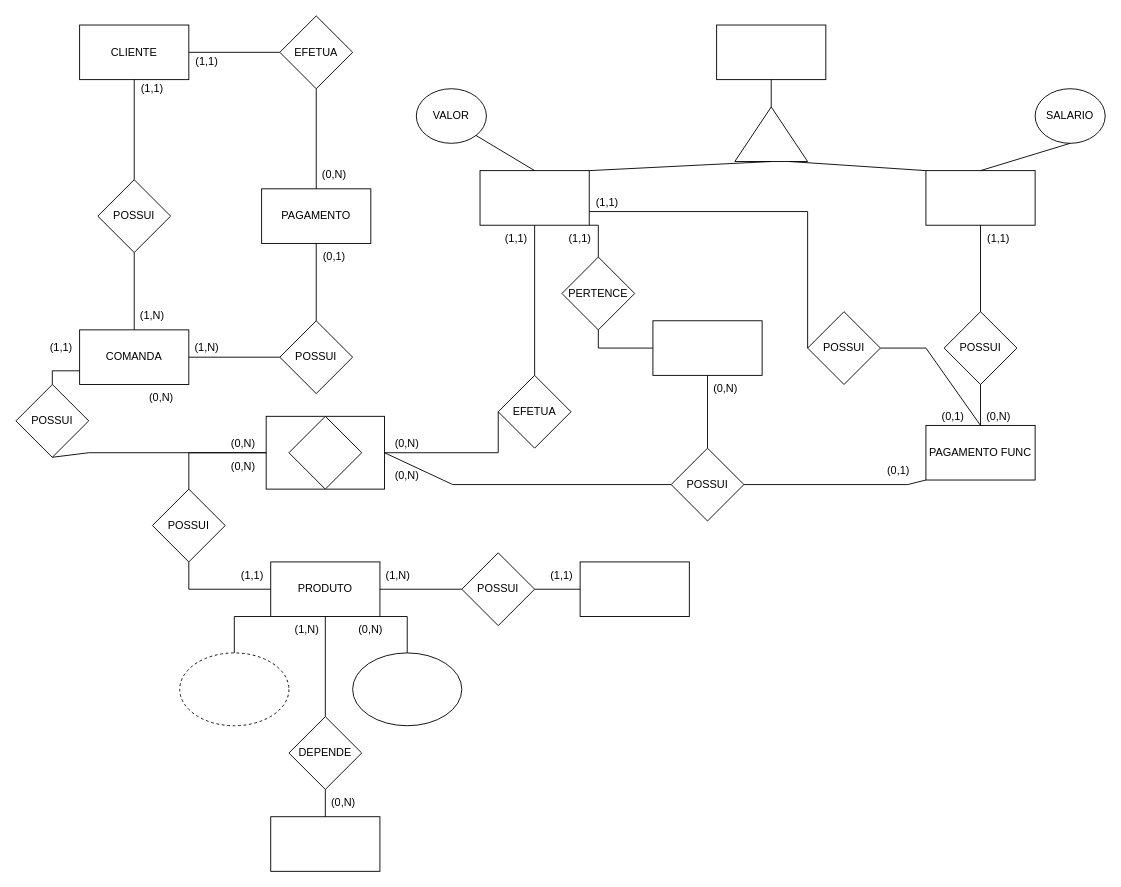
Some shapes in this 1121 by 887 pixel diagram are drawn without their labels. The shapes that lost their labels are listed below. From the top down, each one's centre as x and y in pixels, then its label:
[771,52]: FUNCIONARIO
[534,197]: GARÇON
[980,197]: SERVIÇOS GERAIS
[707,347]: REGISTRO HORAS
[325,452]: REGISTRO
[634,589]: MENU
[234,689]: DISPONIVEL
[407,689]: QNTD
[325,843]: INSUMOS
